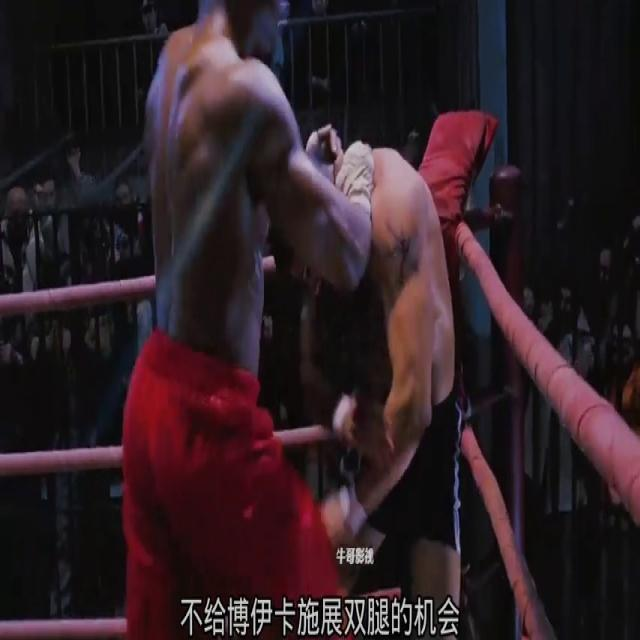fight: (99, 0, 460, 639)
